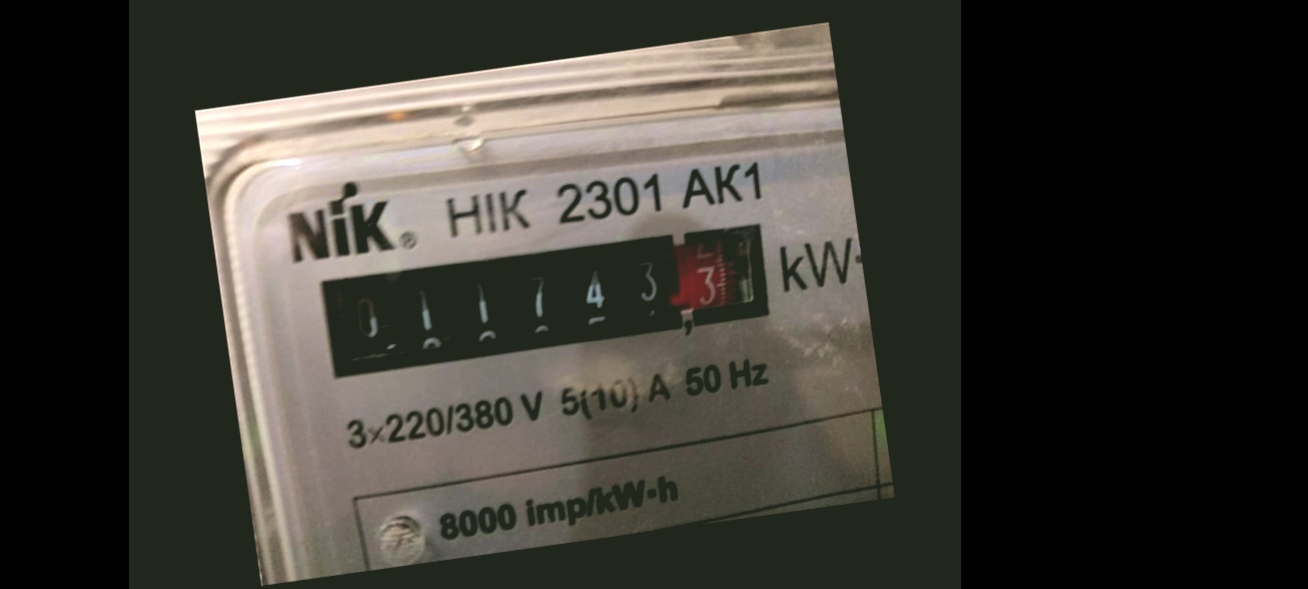0: (349, 291, 384, 342)
1: (468, 277, 496, 327), (414, 285, 437, 335)
3: (631, 255, 665, 306), (692, 261, 722, 308)
4: (577, 262, 612, 313)
7: (524, 271, 554, 322)
screen: (304, 209, 781, 390)
